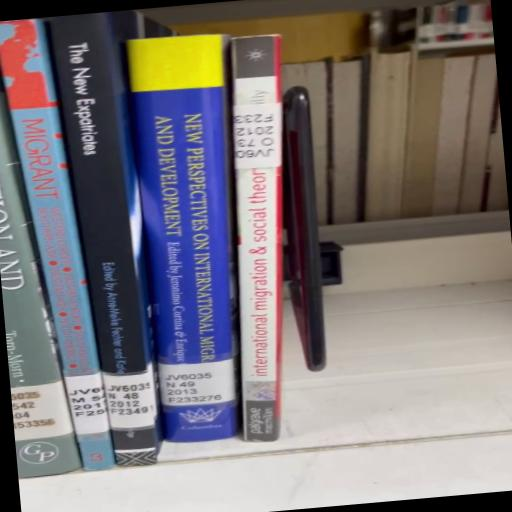reverse: (232, 36, 322, 443)
